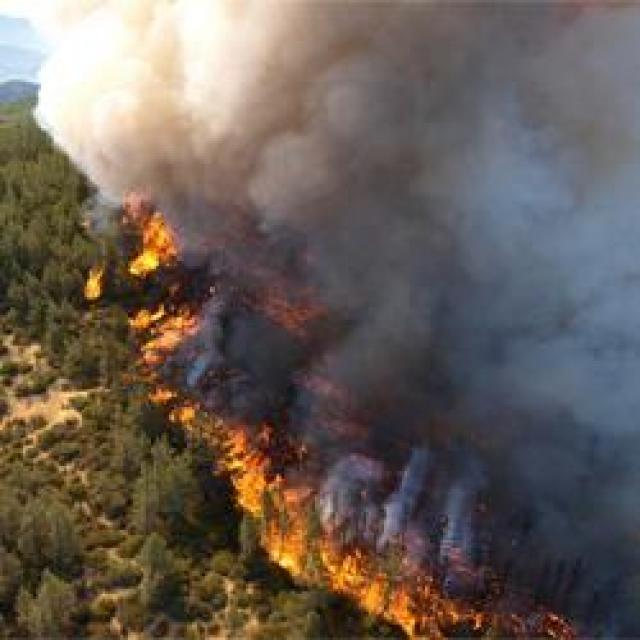fire: (256, 511, 594, 640), (113, 184, 186, 280), (215, 416, 292, 507), (130, 300, 196, 374), (74, 270, 114, 302)
